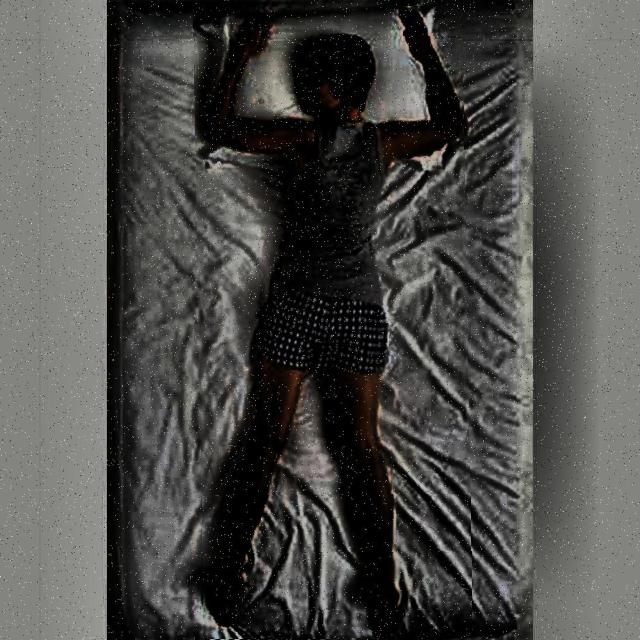Not_Supine: (202, 6, 464, 638)
